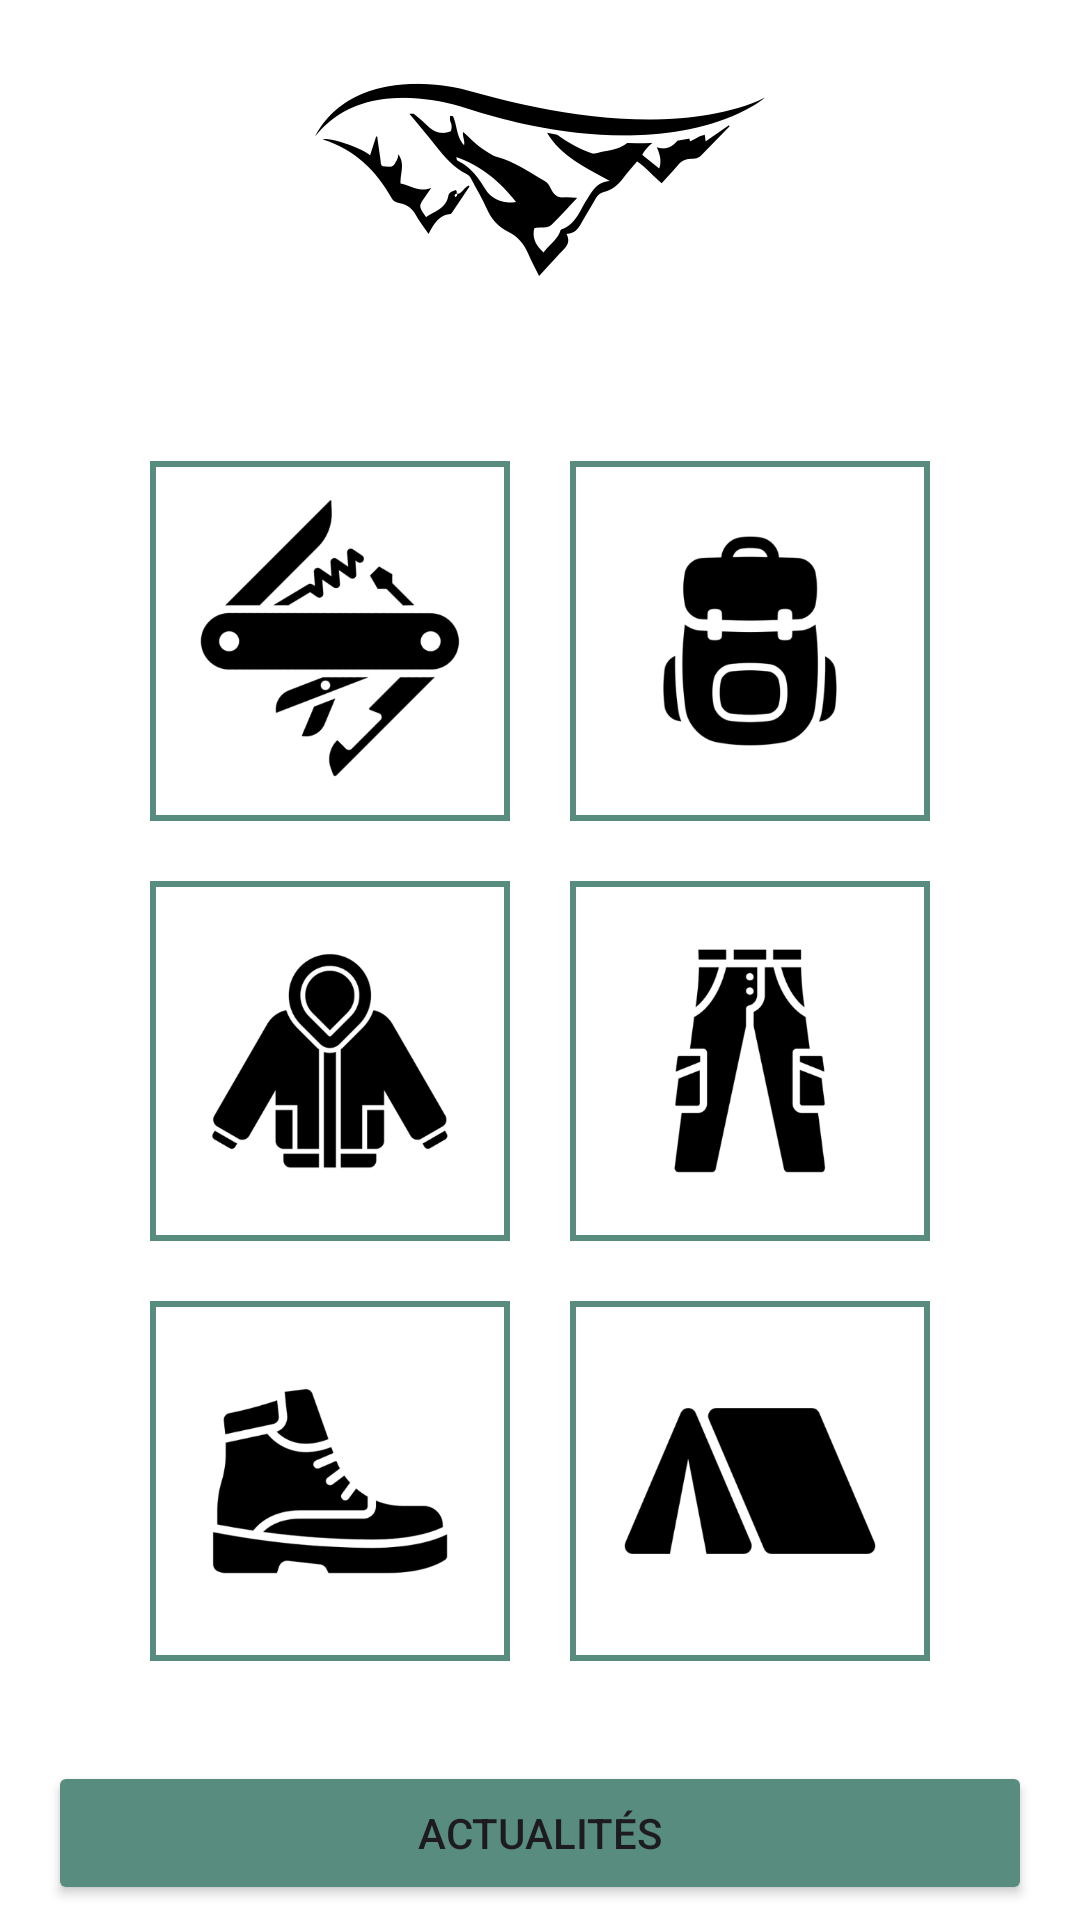

Icons on this 1080×1920 Android screen, each with its box as (x1, y1, x2, y2):
accessories: (150, 461, 510, 821)
backpack: (570, 461, 930, 821)
jacket: (150, 881, 510, 1241)
pants: (570, 881, 930, 1241)
shoes: (150, 1301, 510, 1661)
tent: (570, 1301, 930, 1661)
